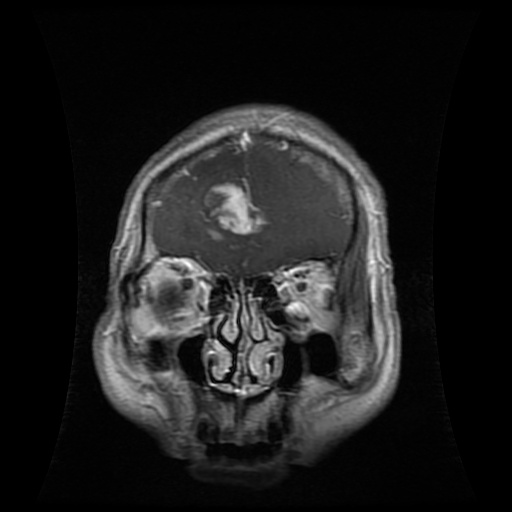glioma: (201, 176, 272, 234)
